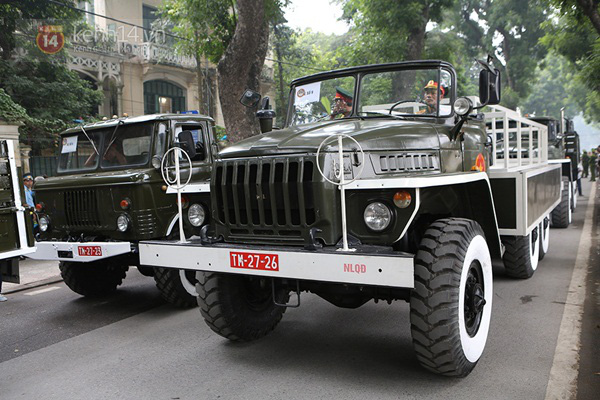plate: (227, 248, 279, 273), (77, 241, 105, 258)
